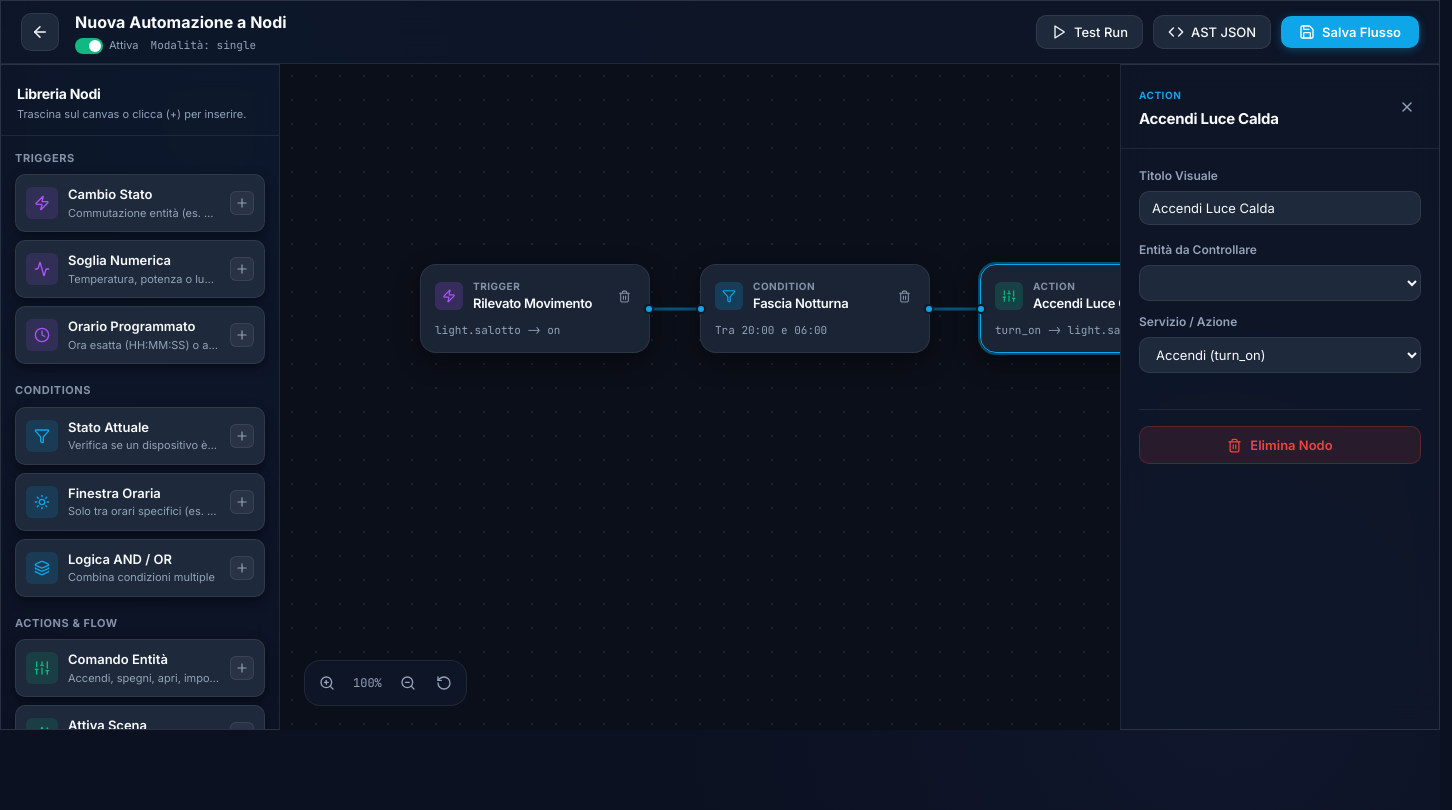
it: FlowEditorView.vue › creates a new node when clicking on a palette item
Click the element showing "Orario Programmato Ora esatta (HH:MM:SS) o alba/tramonto" at (140, 335), box [15,306,265,364]
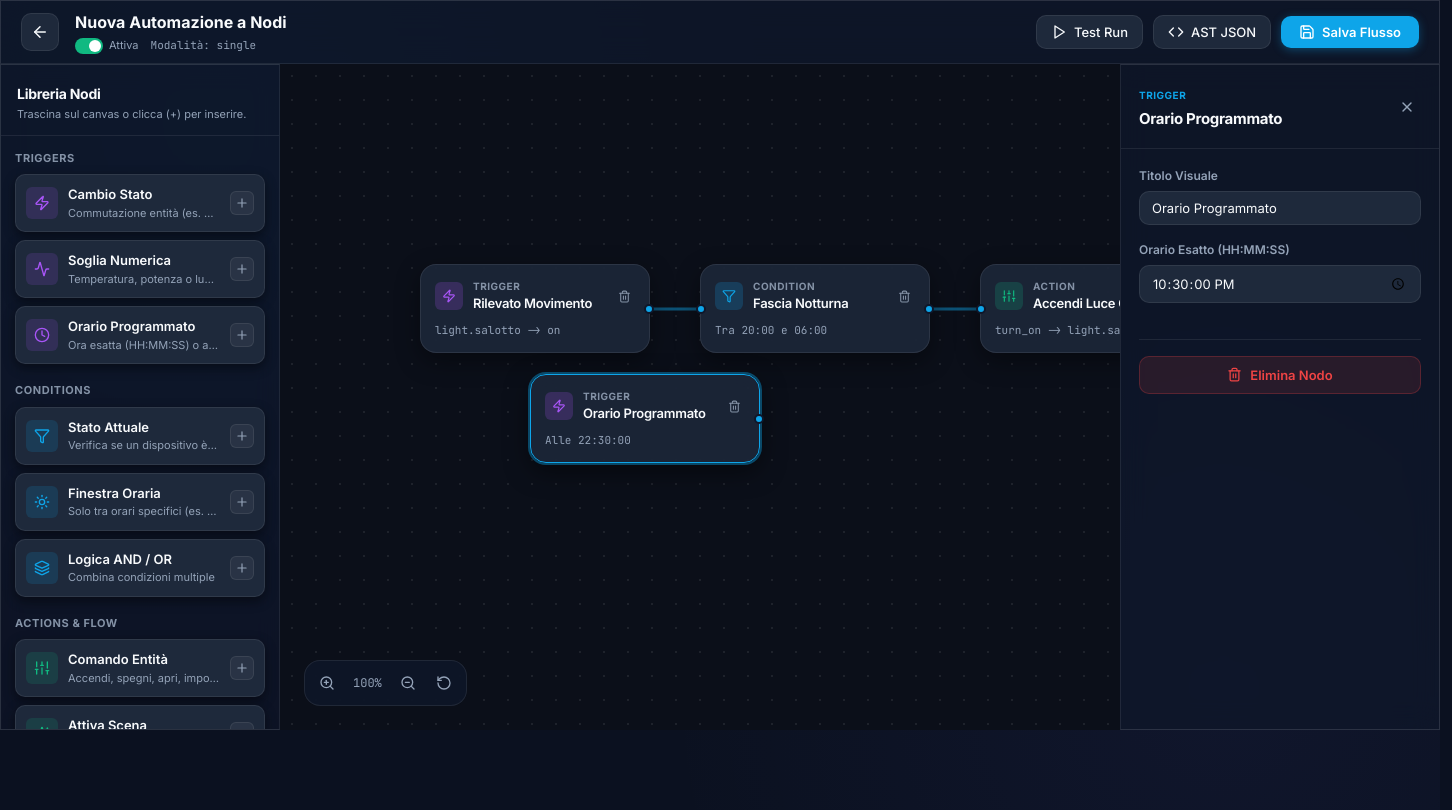
Now the number of elements with class "flow-node" is 4, box [420,264,650,353]; [700,264,930,353]; [980,264,1120,353]; [530,374,760,463]
